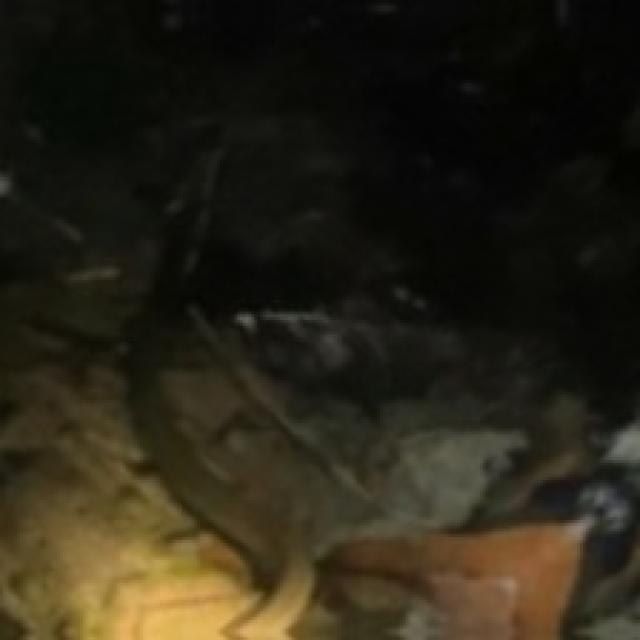king cobra: (132, 360, 315, 639)
